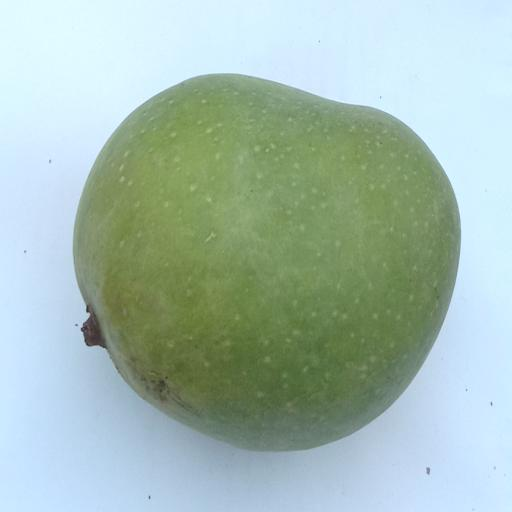mango-unripe: (59, 53, 475, 457)
